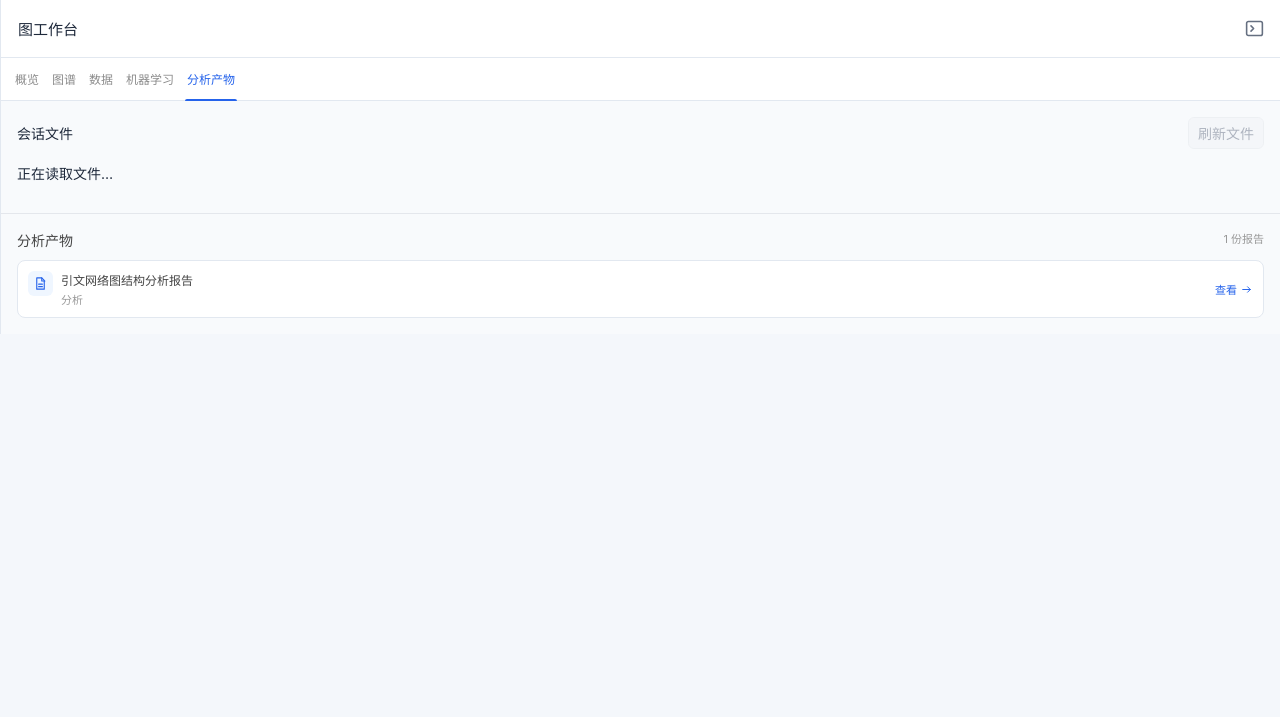
Test: GraphWorkspace visualization layers › opens a structured analysis report and renders its readable content
This screenshot has width=1280, height=717.
Click the button with aria-label "查看报告：引文网络图结构分析报告": (127, 280) x1=18 y1=261 x2=1263 y2=317
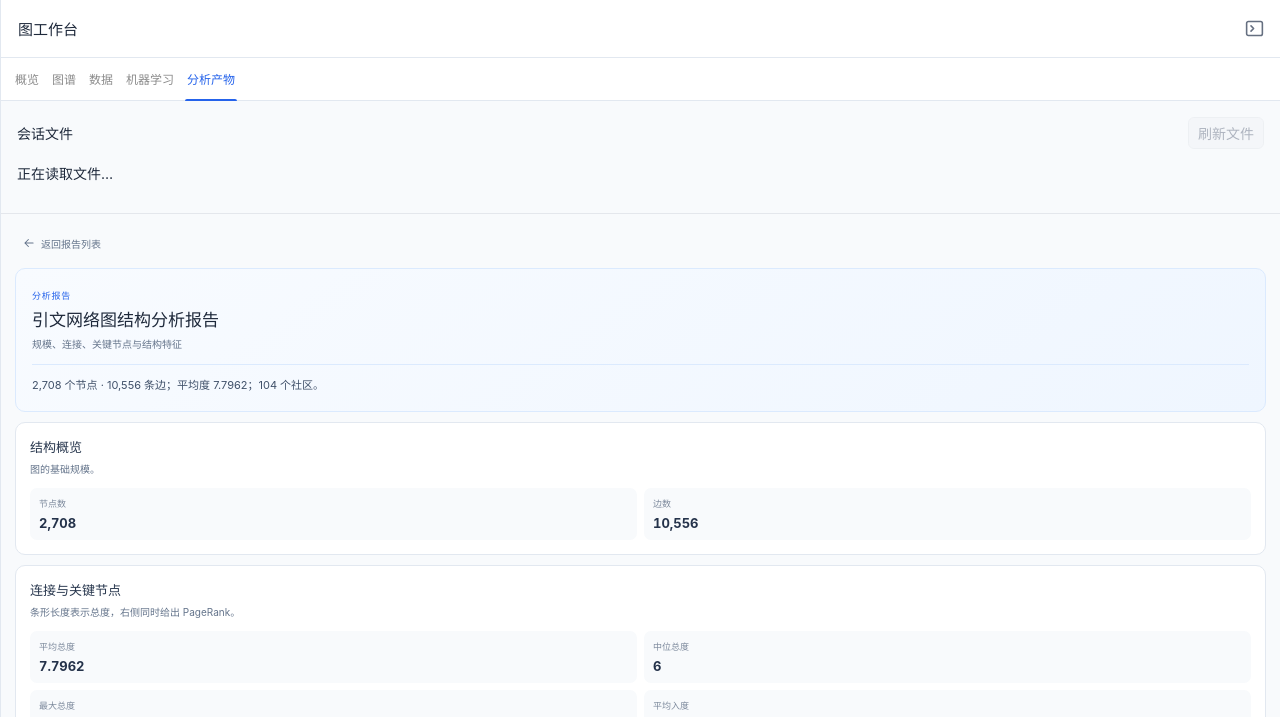
Expected: the text "2,708 个节点 · 10,556 条边；平均度 7.7962；104 个社区。" is shown, x1=32 y1=364 x2=1249 y2=394
Expected: the text "2,708" is shown, x1=39 y1=515 x2=76 y2=531
Expected: the heading "连接与关键节点" is shown, x1=30 y1=582 x2=121 y2=598
Click the button "返回报告列表": (62, 243) x1=15 y1=228 x2=108 y2=258
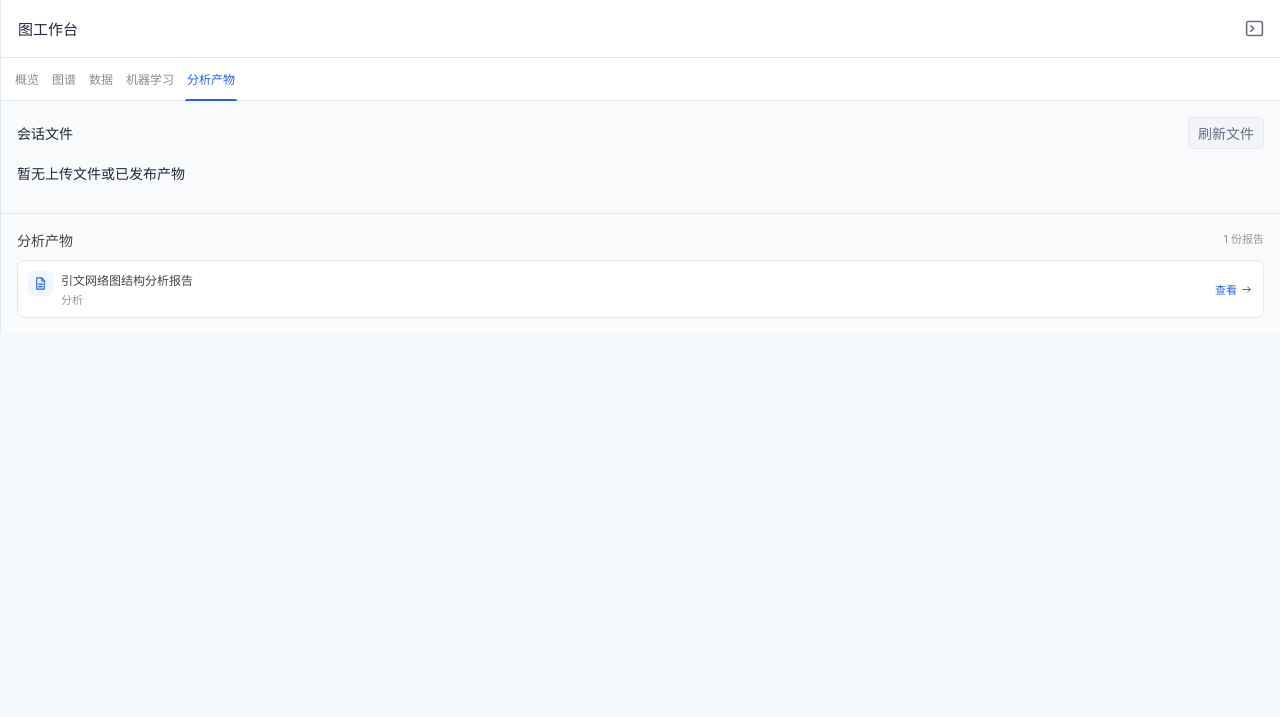
Expected: the button with aria-label "查看报告：引文网络图结构分析报告" is shown, x1=18 y1=261 x2=1263 y2=317
